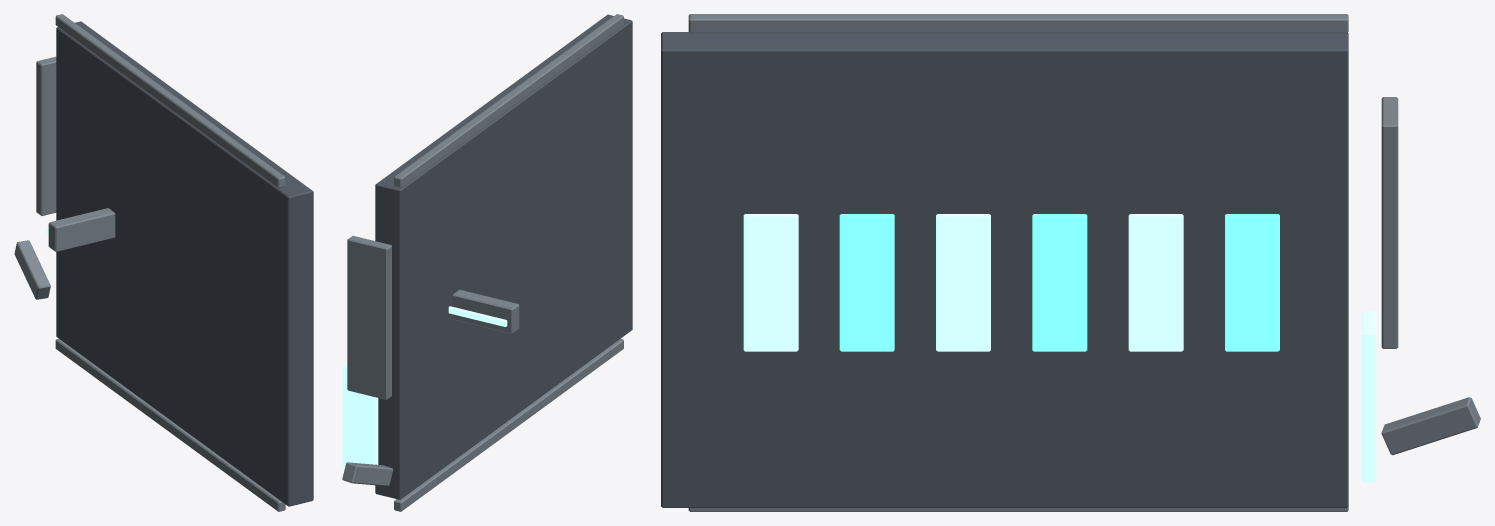
File: facade_broken_l.glb
3 renders of one model, left to right at view 1: azimuth 30°, elevation 25°; view 2: azimuth 150°, elevation 25°; view 3: azimuth 270°, elevation 25°, orthographic. The views are drawn at different scales.
Parts seen in each view (by area): view 1: FacadeBroken_L; view 2: FacadeBroken_L; view 3: FacadeBroken_L.
Part boxes in pixels (left/top/right/bottom): FacadeBroken_L: left=14, top=14, right=313, bottom=511; FacadeBroken_L: left=342, top=14, right=632, bottom=511; FacadeBroken_L: left=661, top=14, right=1480, bottom=511.
Bounding box in the file's own units: 1.35 × 3.96 × 5.96.
